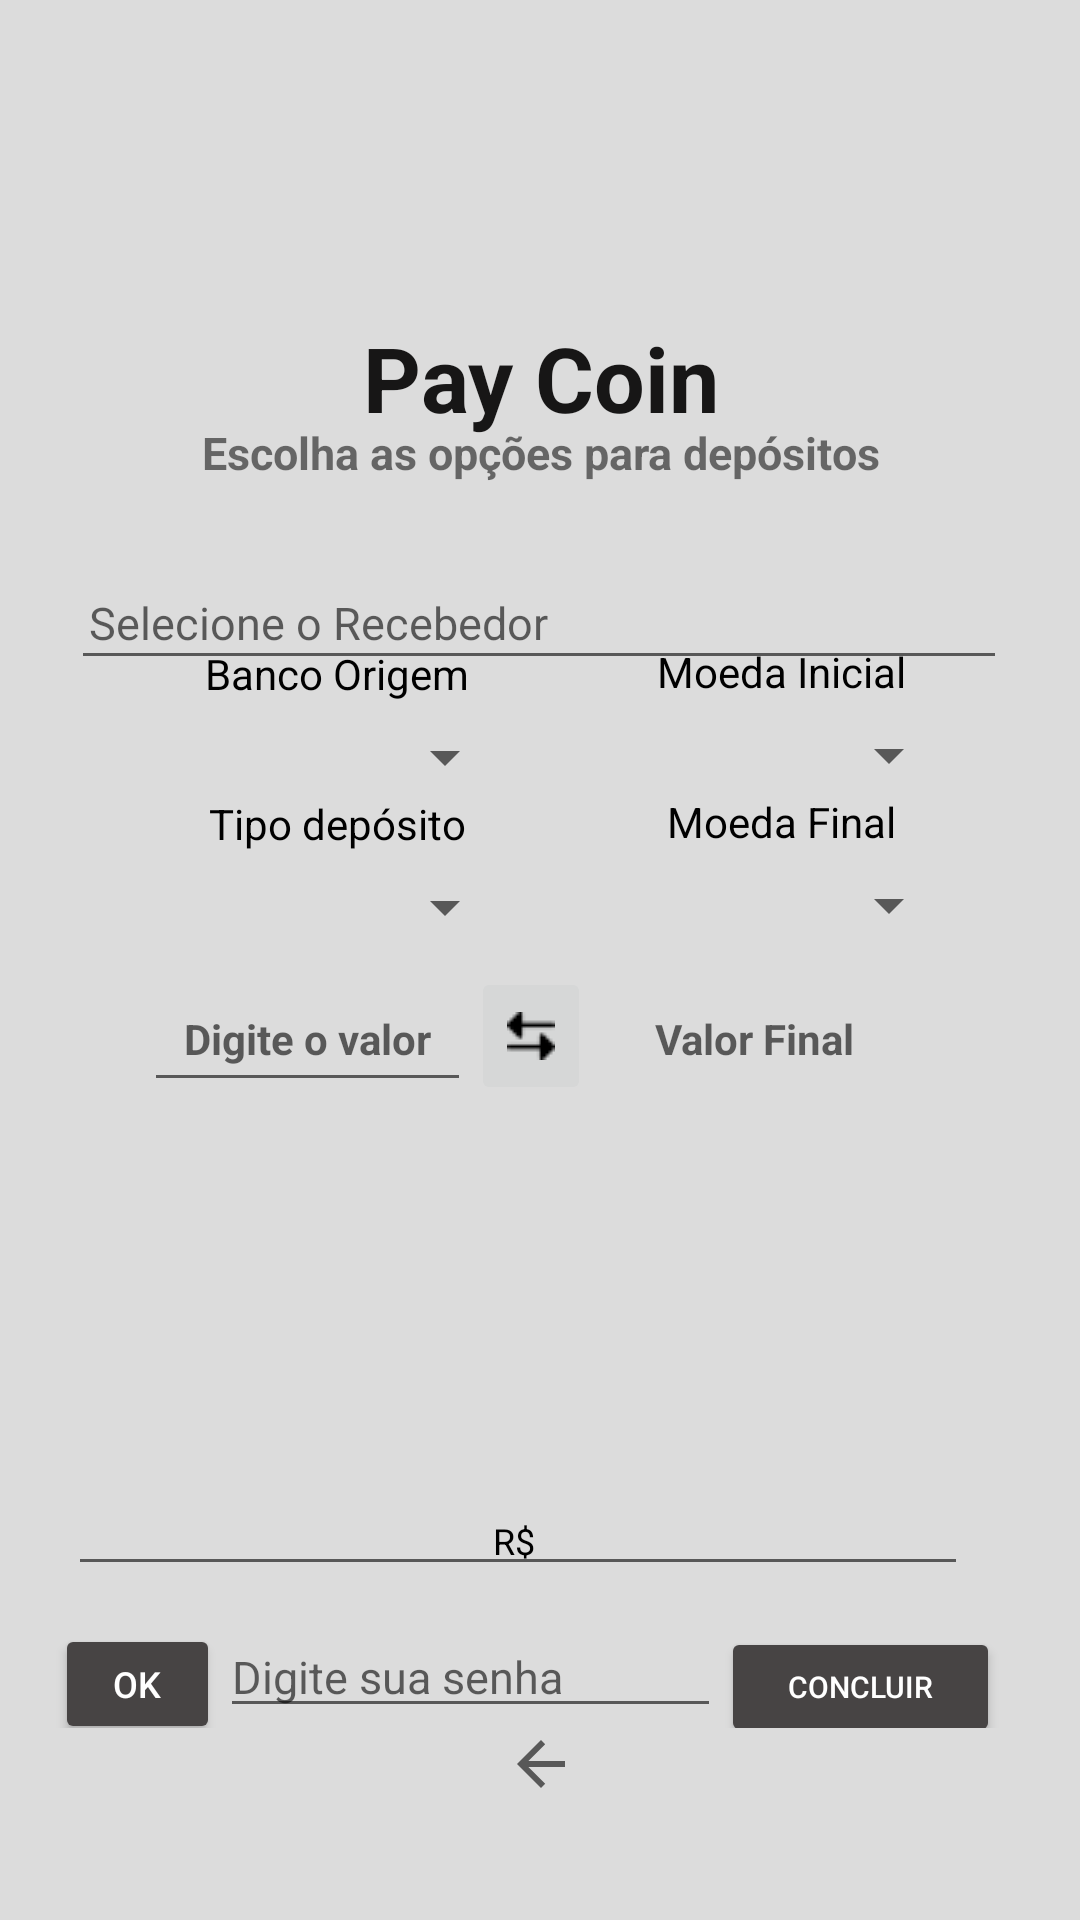

Point at icon controls on the screen. Image size 1080w x 1920h, points as (x,y).
conversaoooo: (531,1036)
